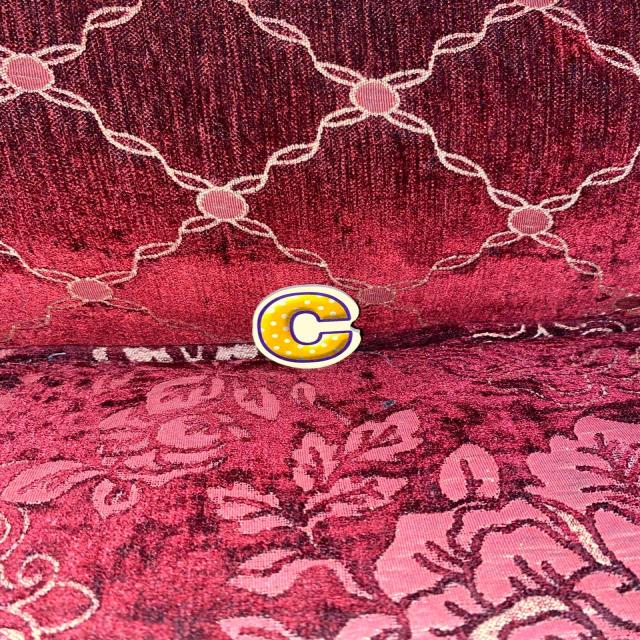C: (253, 285, 359, 368)
